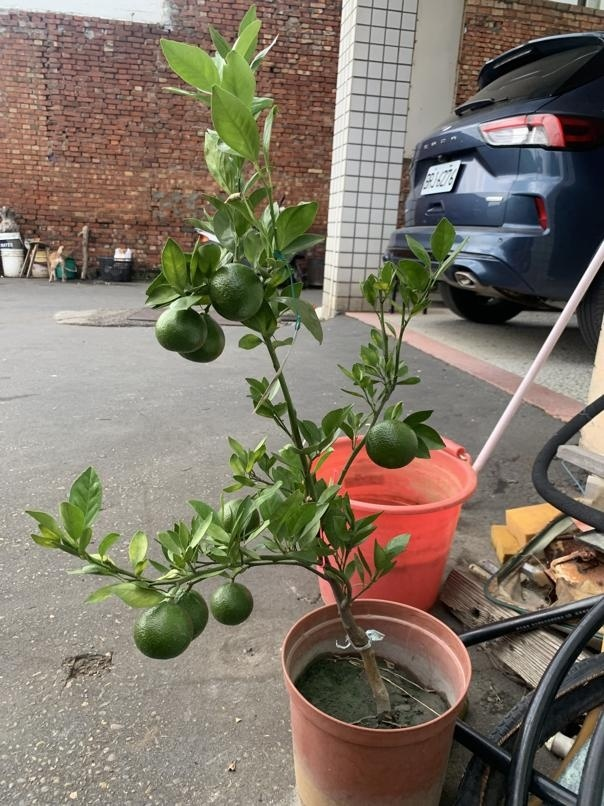Tangerine: (205, 261, 266, 324), (132, 602, 194, 662), (366, 418, 418, 471), (155, 304, 208, 353), (206, 577, 255, 627)
